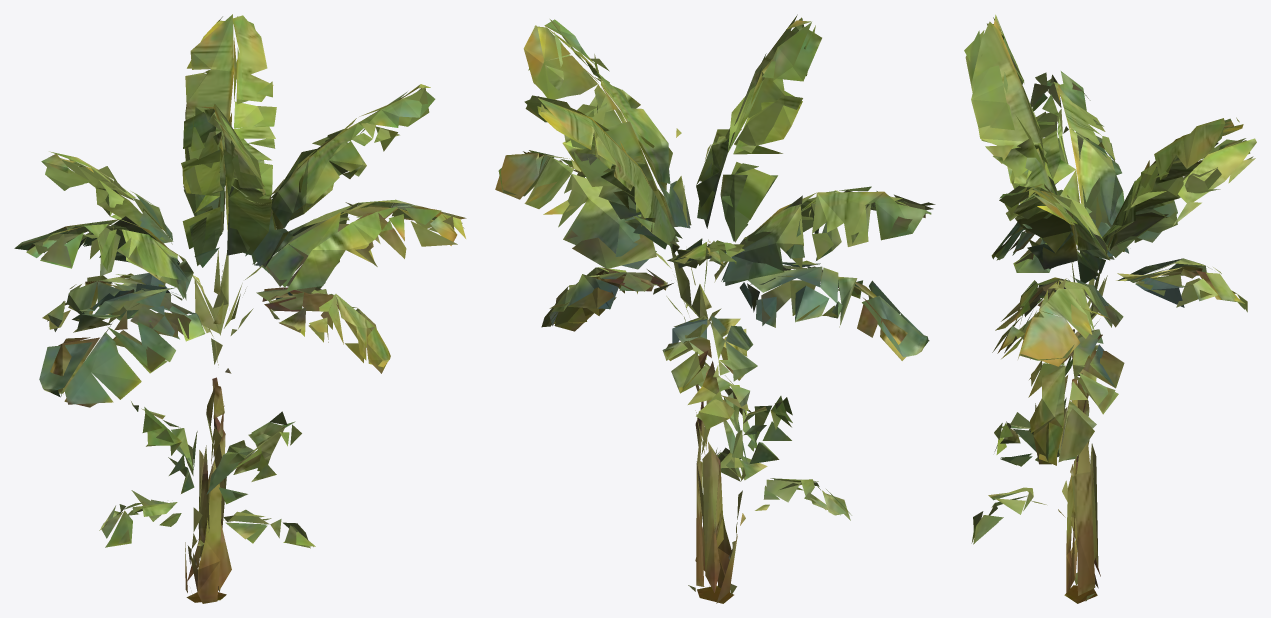
The model's file is banana.glb.
3 renders of one model, left to right at view 1: azimuth 30°, elevation 25°; view 2: azimuth 150°, elevation 25°; view 3: azimuth 270°, elevation 25°, orthographic. The views are drawn at different scales.
Visible parts, largest first — view 1: geometry_0; view 2: geometry_0; view 3: geometry_0.
Part boxes in pixels (x1,y1,x2,y2): geometry_0: (14,14,466,603); geometry_0: (495,14,935,603); geometry_0: (964,14,1256,603).
Bounding box in the file's own units: 1.64 × 1.98 × 0.9462.
1 material, 1 textured.
